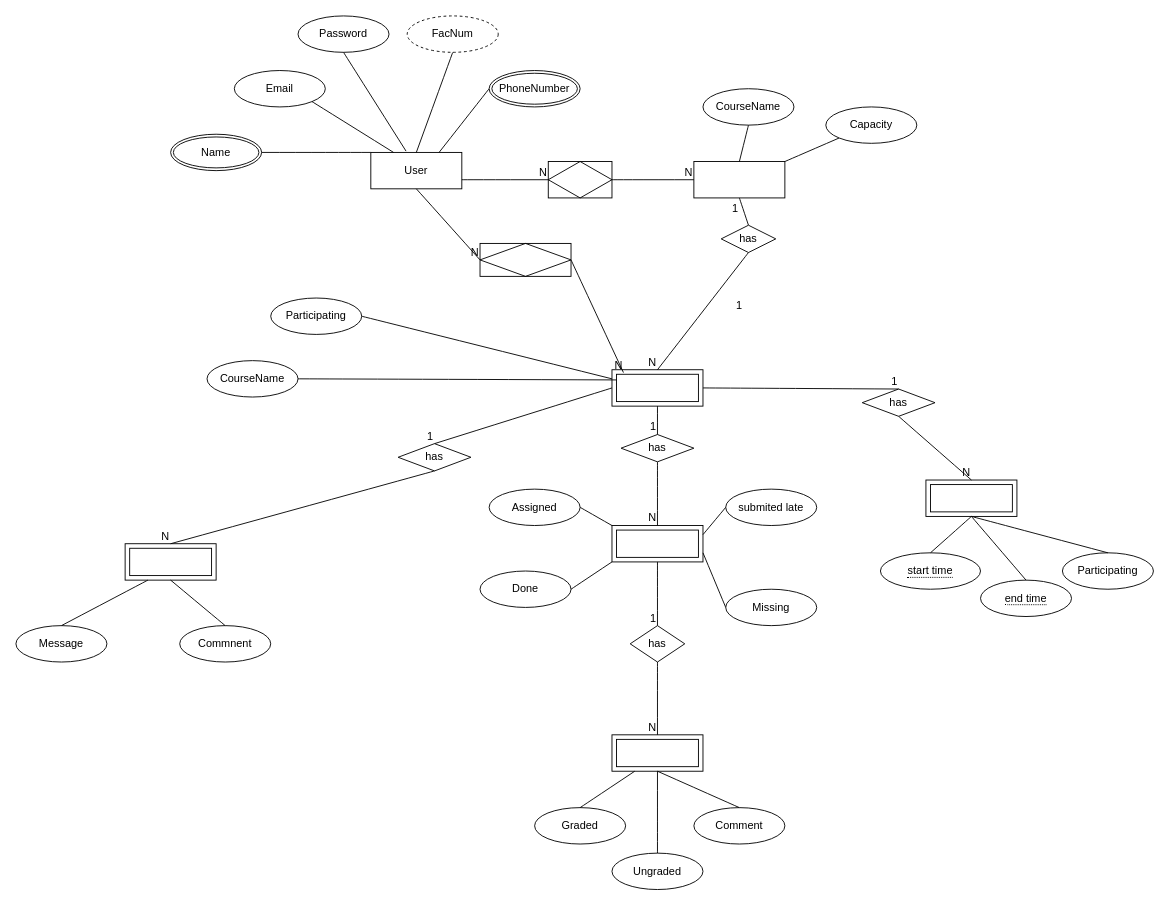
Image size: 1169x905. Some labels were removed from this diagram. The centre of each missing label's shape, as x and y in pixels:
Assigments: the point at 657,543
Classroom: the point at 739,179
Courses: the point at 657,387
enrollment: the point at 525,259
Grades: the point at 657,752
InfoChannel: the point at 170,561
log in: the point at 579,179
Meeting: the point at 971,497
